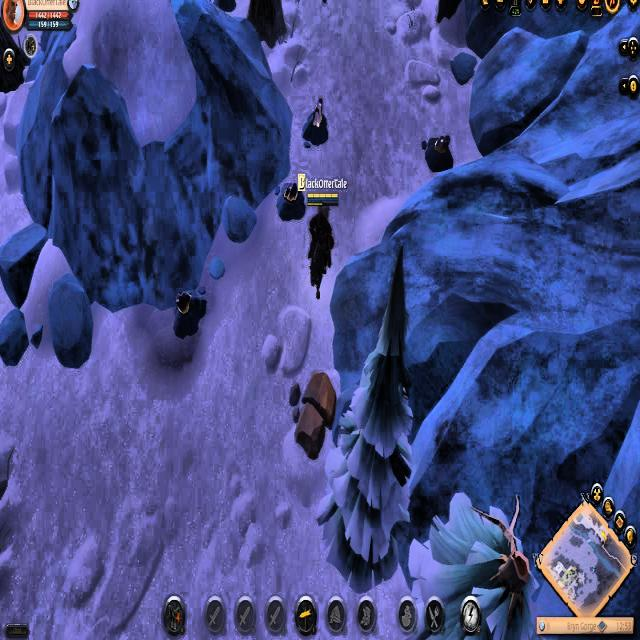copperore: (169, 287, 206, 339), (302, 95, 330, 146), (422, 131, 454, 172), (274, 179, 306, 220)
limestone: (290, 367, 337, 460)
